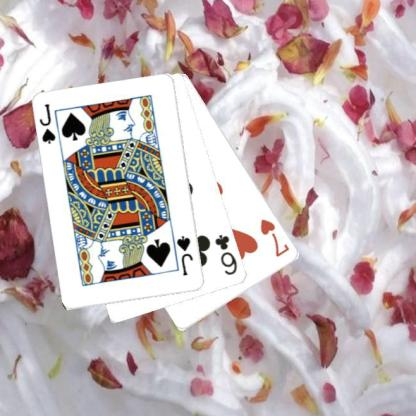6C: (212, 232, 239, 277)
7H: (258, 216, 292, 258)
JS: (174, 233, 195, 277), (38, 101, 58, 146)
